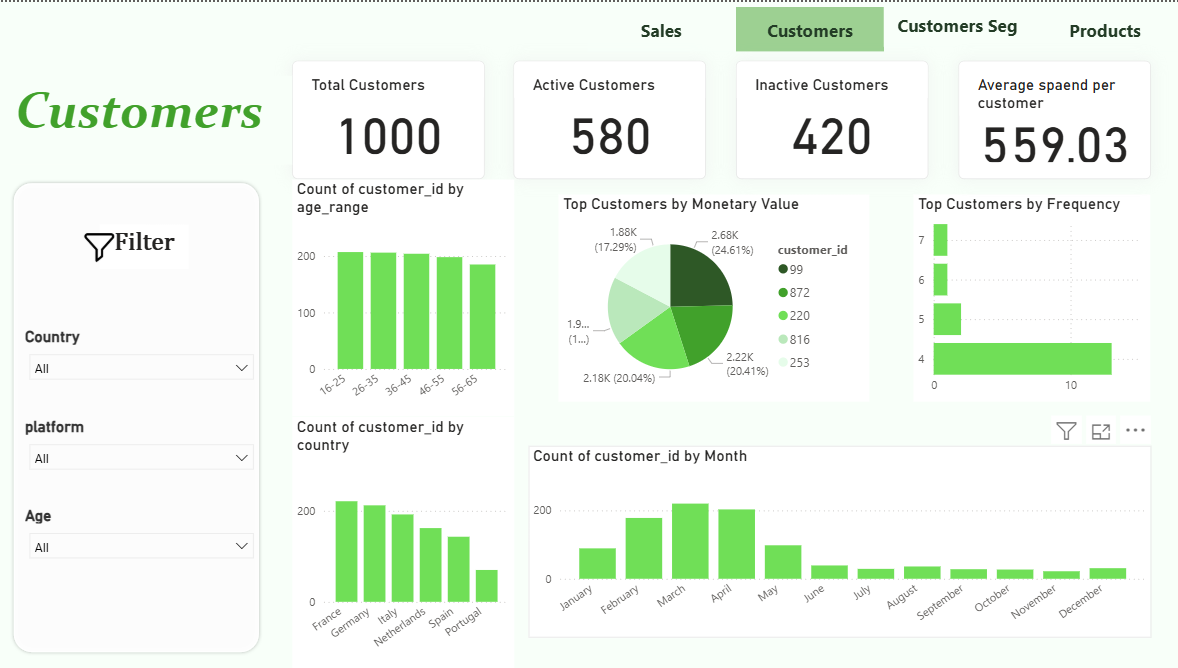

The dashboard page shown, as its layout file describes it:
{"tool":"powerbi","page":{"name":"Customers","canvas":[1280,720],"ordinal":1},"visuals":[{"type":"shape","box":[0,192,288,528],"z":0},{"type":"textbox","box":[112,240,96,48],"z":1000},{"type":"image","box":[80,240,64,48],"z":2000},{"type":"slicer","title":"Country","fields":{"Values":["dataset_fashion_store_customers.country"]},"box":[16,352,272,80],"z":3000},{"type":"slicer","title":"platform","fields":{"Values":["dataset_fashion_store_sales.channel"]},"box":[16,448,272,64],"z":4000},{"type":"slicer","title":"Age","fields":{"Values":["dataset_fashion_store_customers.age_range"]},"box":[16,544,272,64],"z":5000},{"type":"card","title":"Inactive Customers","fields":{"Values":["Count(customers_no_sales.customer_id)"]},"box":[800,64,208,128],"z":6000},{"type":"card","title":"Active Customers","fields":{"Values":["Count(dataset_fashion_store_sales.customer_id)"]},"box":[560,64,208,128],"z":7000},{"type":"card","title":"Total Customers","fields":{"Values":["CountNonNull(dataset_fashion_store_customers.customer_id)"]},"box":[320,64,208,128],"z":8000},{"type":"actionButton","box":[639.4,5.5,160,48],"z":9000},{"type":"actionButton","box":[799.4,5.5,160,48],"z":10000},{"type":"actionButton","box":[1119.4,5.5,160,48],"z":11000},{"type":"actionButton","box":[960,0,160,48],"z":12000},{"type":"clusteredBarChart","title":"Top Customers by Frequency","fields":{"Category":["RFM.Frequency"],"Y":["CountNonNull(RFM.customer_id)"]},"box":[992,208,256,224],"z":13000},{"type":"pieChart","title":"Top Customers by Monetary Value","fields":{"Category":["RFM.customer_id"],"Y":["Sum(RFM.Monetary)"]},"box":[608,208,336,224],"z":14000},{"type":"columnChart","fields":{"Y":["CountNonNull(dataset_fashion_store_customers.customer_id)"],"Category":["dataset_fashion_store_customers.age_range"]},"box":[320,192,240,256],"z":15000},{"type":"columnChart","fields":{"Y":["CountNonNull(dataset_fashion_store_customers.customer_id)"],"Category":["dataset_fashion_store_customers.country"]},"box":[320,448,240,272],"z":16000},{"type":"columnChart","fields":{"Y":["CountNonNull(dataset_fashion_store_customers.customer_id)"],"Category":["dataset_fashion_store_customers.signup_date.Variation.Date Hierarchy.Month"]},"box":[576,480,672,208],"z":17000},{"type":"card","title":"Average spaend per customer","fields":{"Values":["Avg(RFM.Monetary)"]},"box":[1040,64,208,128],"z":18000},{"type":"textbox","box":[16,80,304,96],"z":19000}]}

Visuals, with their boxes in screenshot pixels (x1, y1, x2, y2), scaled from the page's 1280x720 canvas onto the 1178x668 screenshot:
shape: (0,178,265,667)
textbox: (103,223,191,267)
image: (74,223,133,267)
"Country" slicer: (15,327,265,401)
"platform" slicer: (15,416,265,475)
"Age" slicer: (15,505,265,564)
"Inactive Customers" card: (736,59,928,178)
"Active Customers" card: (515,59,707,178)
"Total Customers" card: (294,59,486,178)
actionButton: (588,5,736,50)
actionButton: (736,5,883,50)
actionButton: (1030,5,1177,50)
actionButton: (884,0,1031,45)
"Top Customers by Frequency" clusteredBarChart: (913,193,1149,401)
"Top Customers by Monetary Value" pieChart: (560,193,869,401)
columnChart - CountNonNull(dataset_fashion_store_customers.customer_id) x dataset_fashion_store_customers.age_range: (294,178,515,416)
columnChart - CountNonNull(dataset_fashion_store_customers.customer_id) x dataset_fashion_store_customers.country: (294,416,515,667)
columnChart - CountNonNull(dataset_fashion_store_customers.customer_id) x dataset_fashion_store_customers.signup_date.Variation.Date Hierarchy.Month: (530,445,1149,638)
"Average spaend per customer" card: (957,59,1149,178)
textbox: (15,74,294,163)
